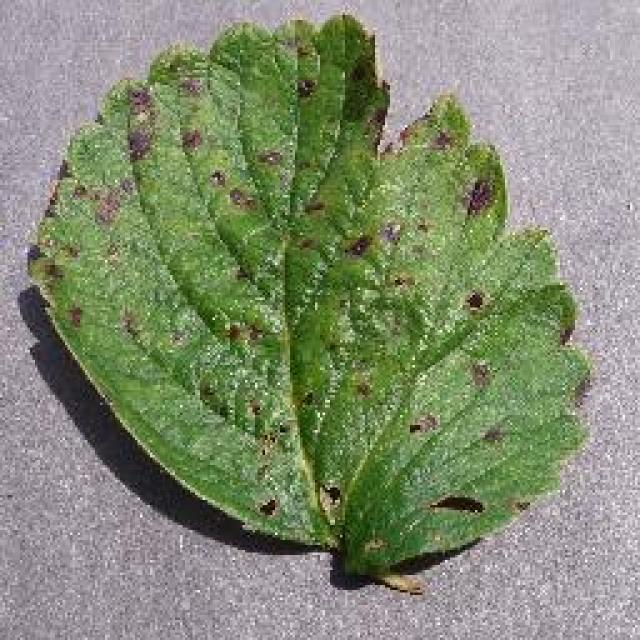Strawberry leaf scorch: (102, 96, 385, 412)
